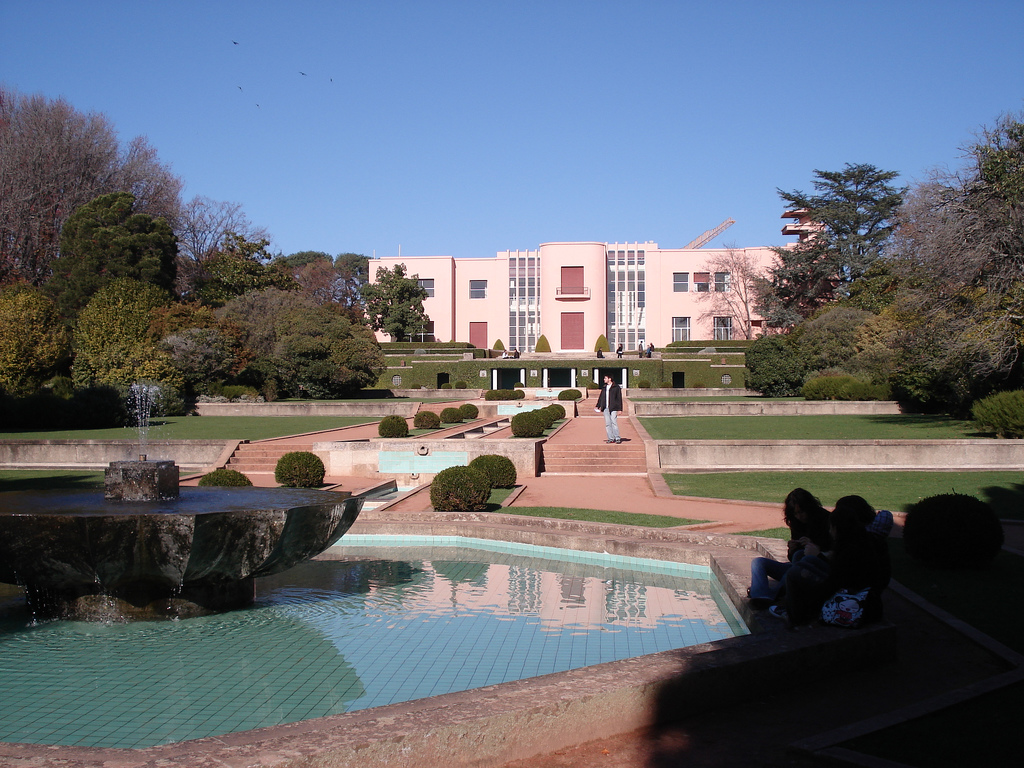serralves: (365, 203, 846, 355)
